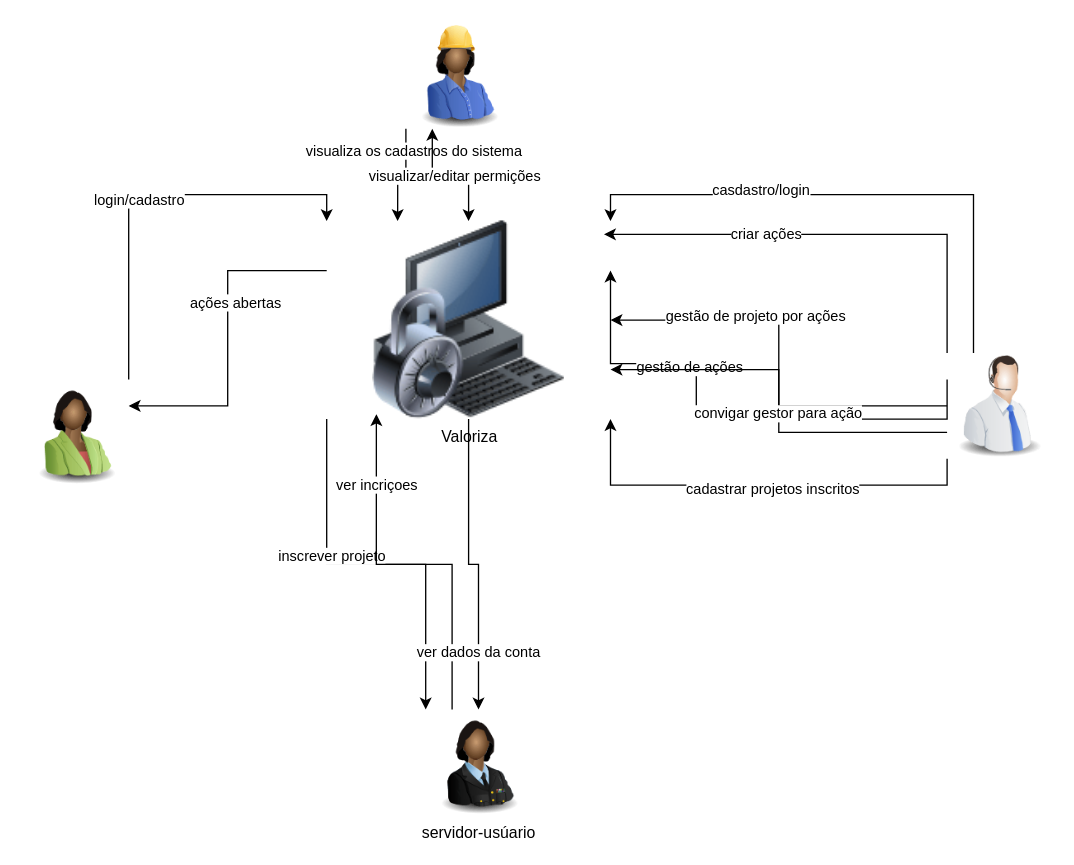
This 1074x865 diagram has some shape labels left out. The centre of each missing label's shape, as x and y in pixels:
"Gestores" belongs at (x=999, y=405).
"visitante" belongs at (x=75, y=431).
